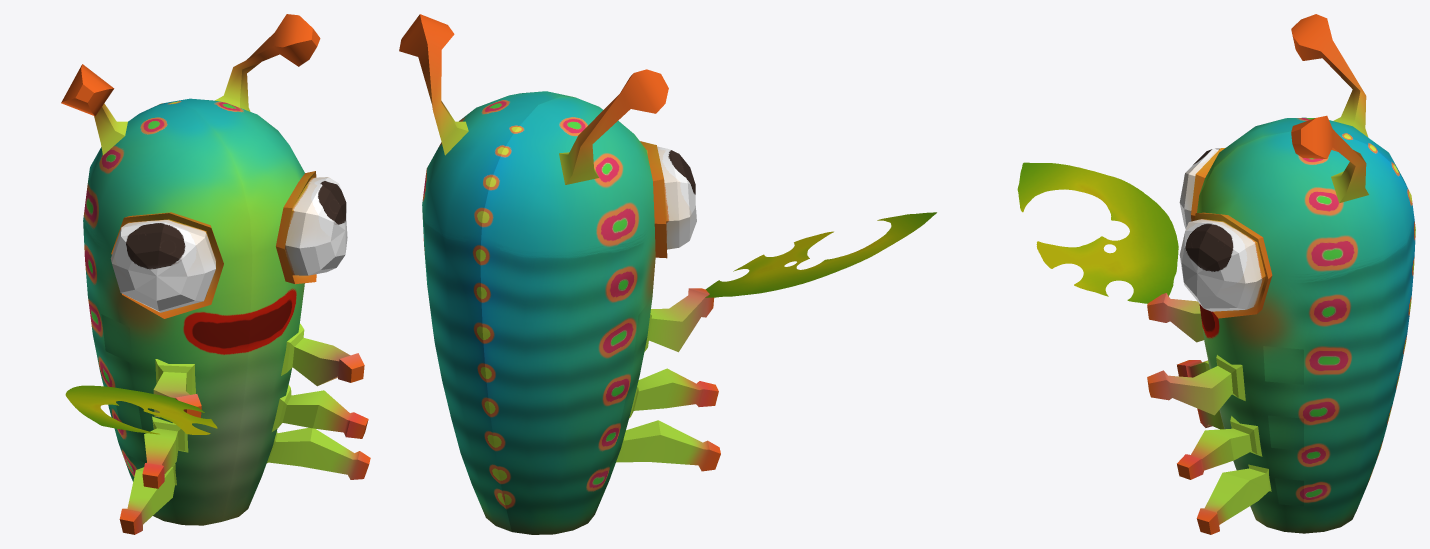
Rendered from newworm.fbx.
3 views of the same model, side by side, from view 1: azimuth 30°, elevation 25°; view 2: azimuth 150°, elevation 25°; view 3: azimuth 270°, elevation 25° (orthographic). The views are drawn at different scales.
Parts seen in each view (by area): view 1: pPlane2; view 2: pPlane2; view 3: pPlane2.
Boxes of the visible parts, x1=… form: pPlane2: x1=61, y1=14, x2=370, y2=534; pPlane2: x1=399, y1=14, x2=936, y2=534; pPlane2: x1=1017, y1=14, x2=1415, y2=534.
Size of the model in its own units: 10.08 by 11.41 by 9.97.
Materials: 1 (1 with a texture image).
